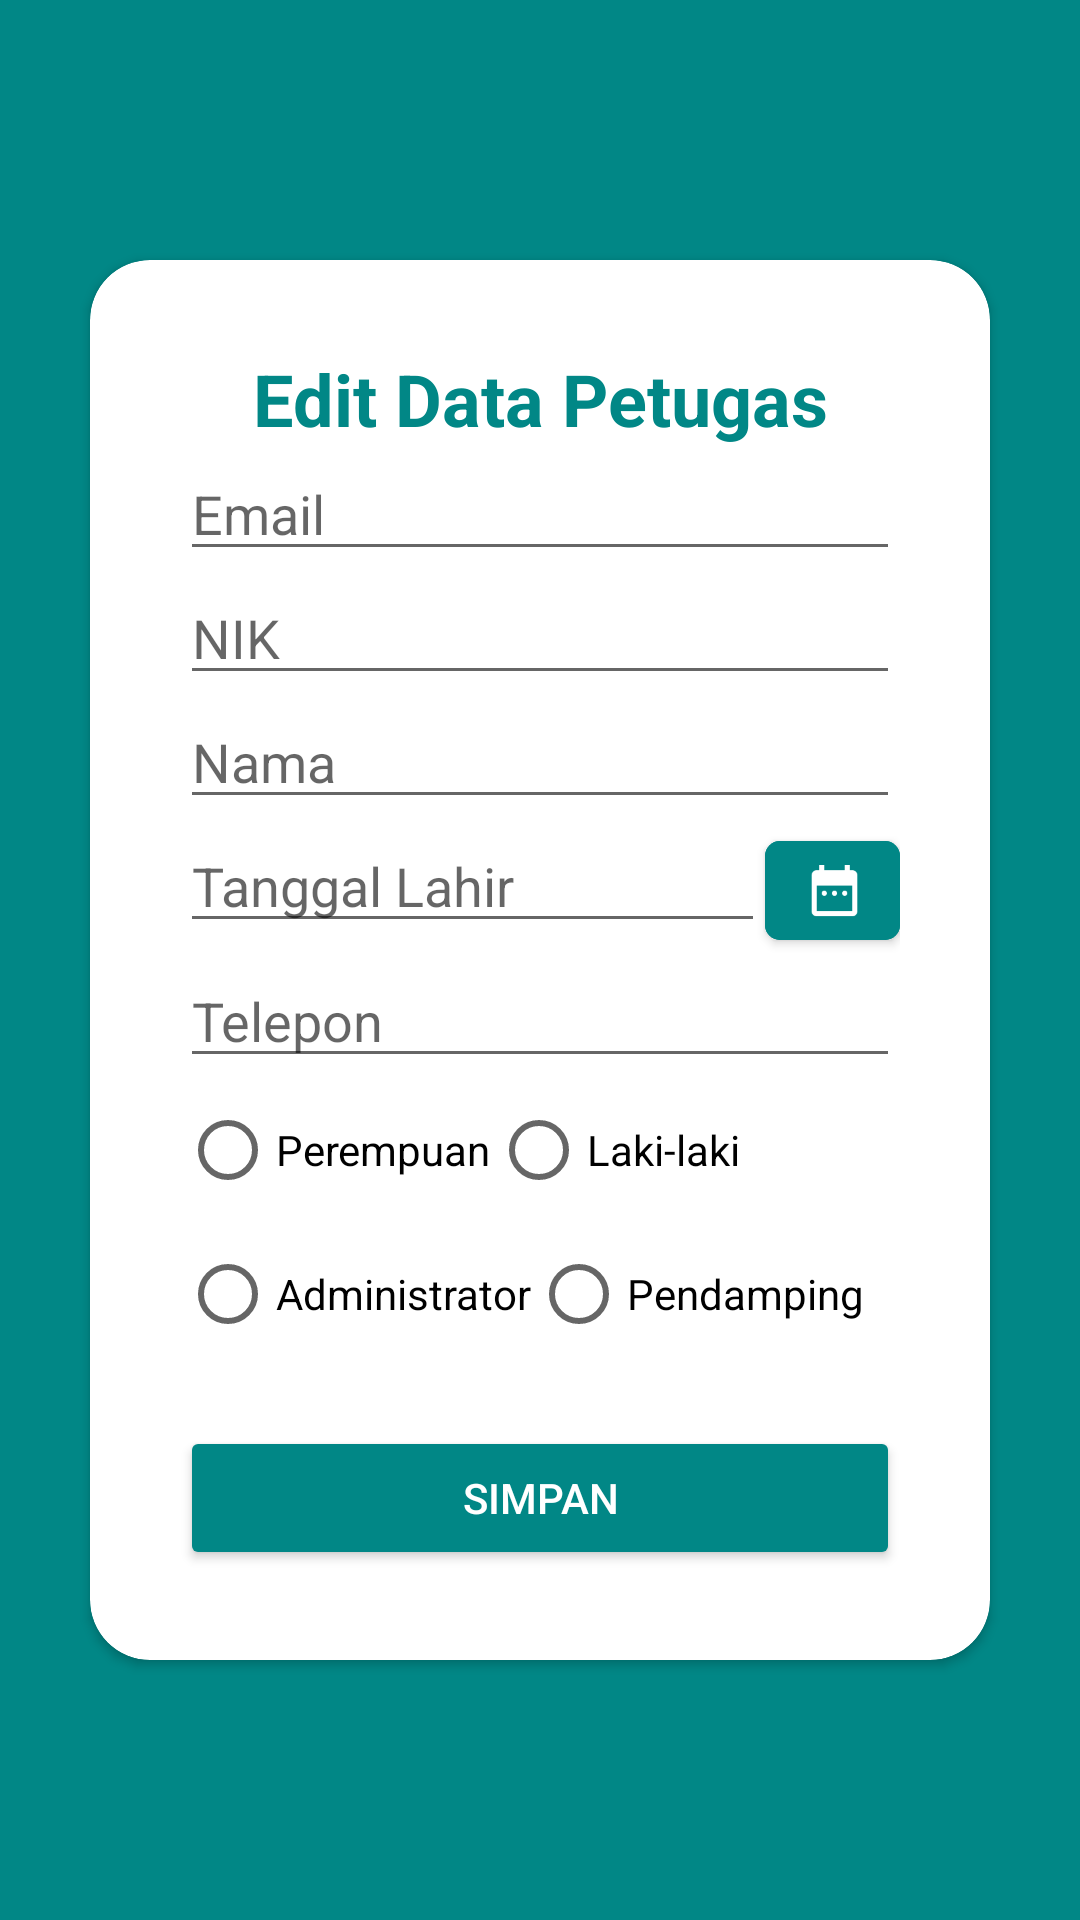

Icons on this 1080 x 1920 Android screen, each with the point to tap as point (x, y):
datepicker: point (832, 891)
